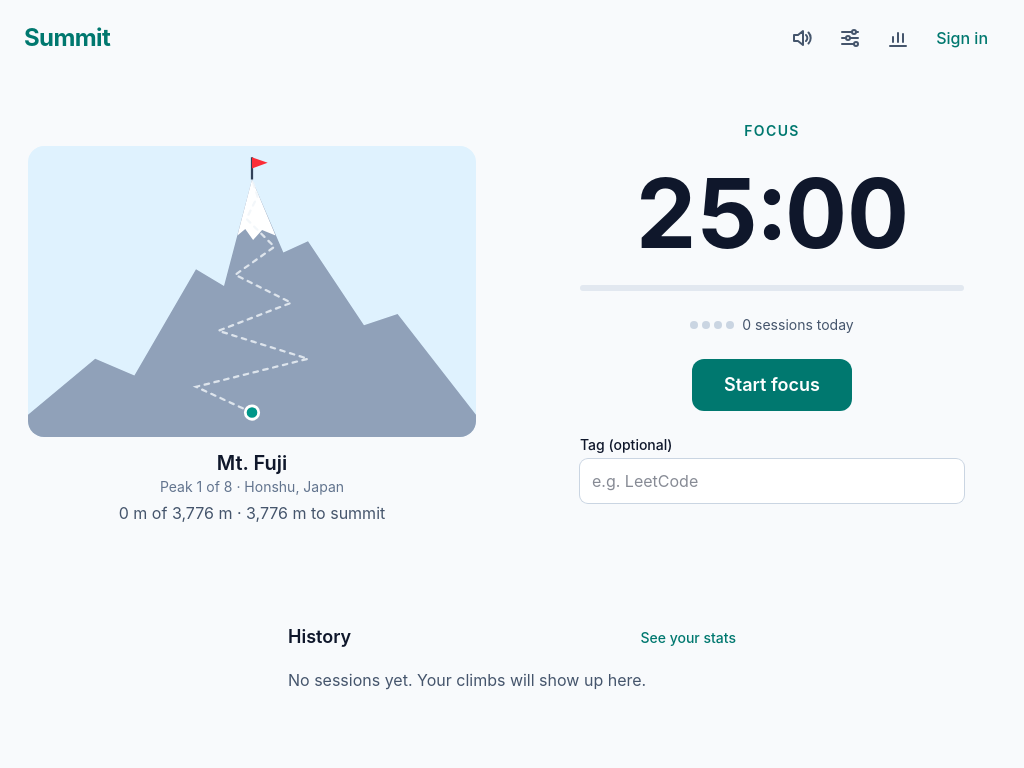
it: App › applies saved settings to the timer
Click the button named "Timer settings" at coordinates (850, 38), box [828,16,872,60]
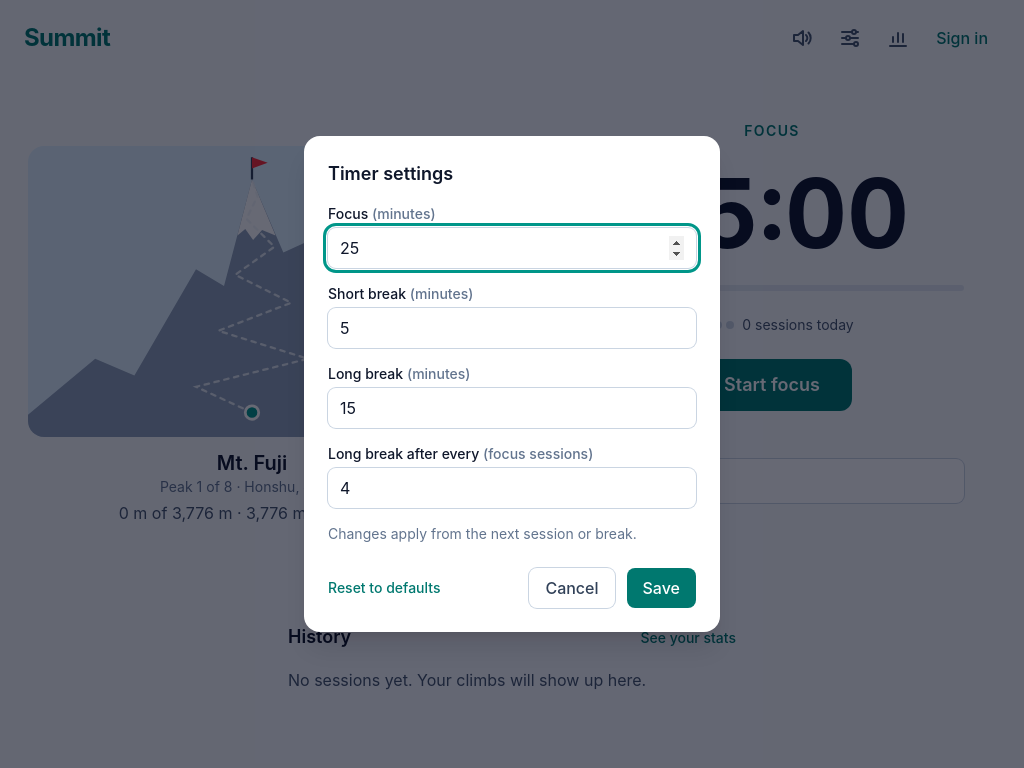
Replace the text in the number field labelled "Focus (minutes)" with "40" at coordinates (512, 248), box [328,228,696,268]
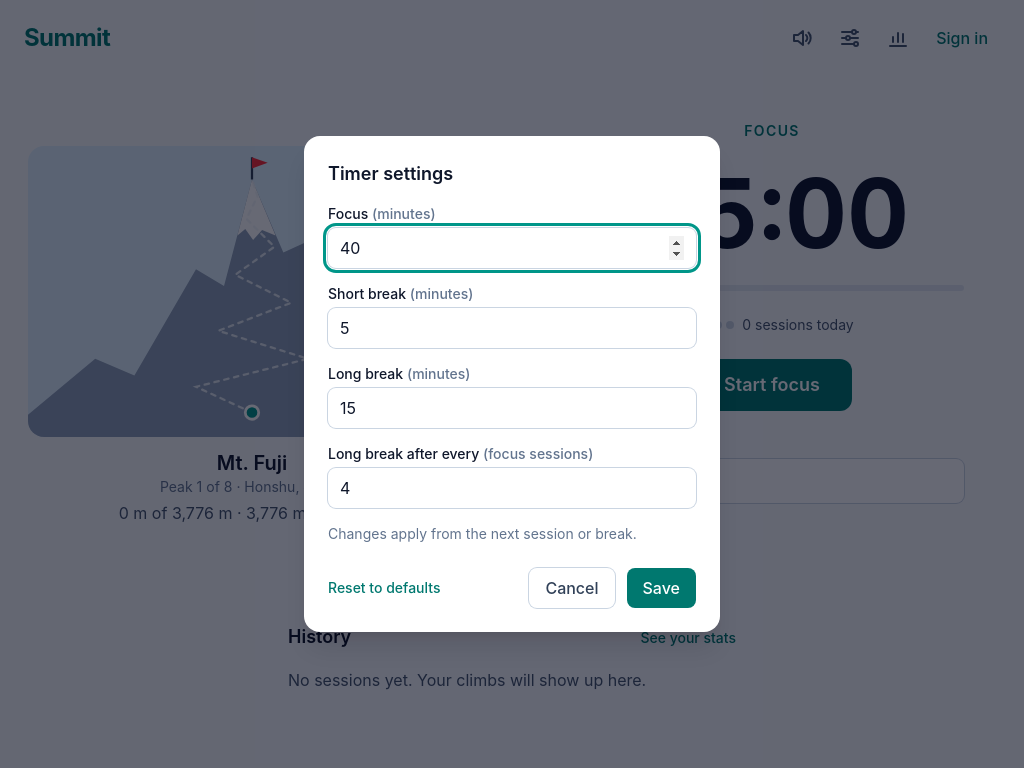
Click the button "Save" at coordinates (661, 588), box [626,568,696,608]
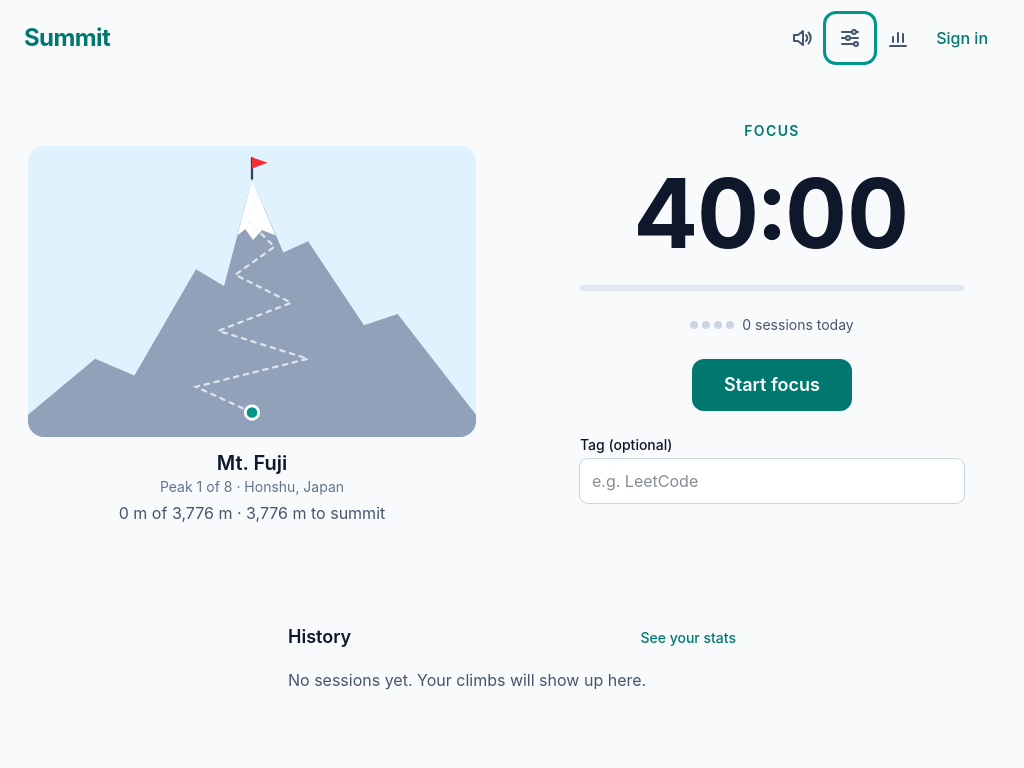
expect the dialog is gone: met
expect the text "40:00" is shown: met, box [635,164,909,260]
